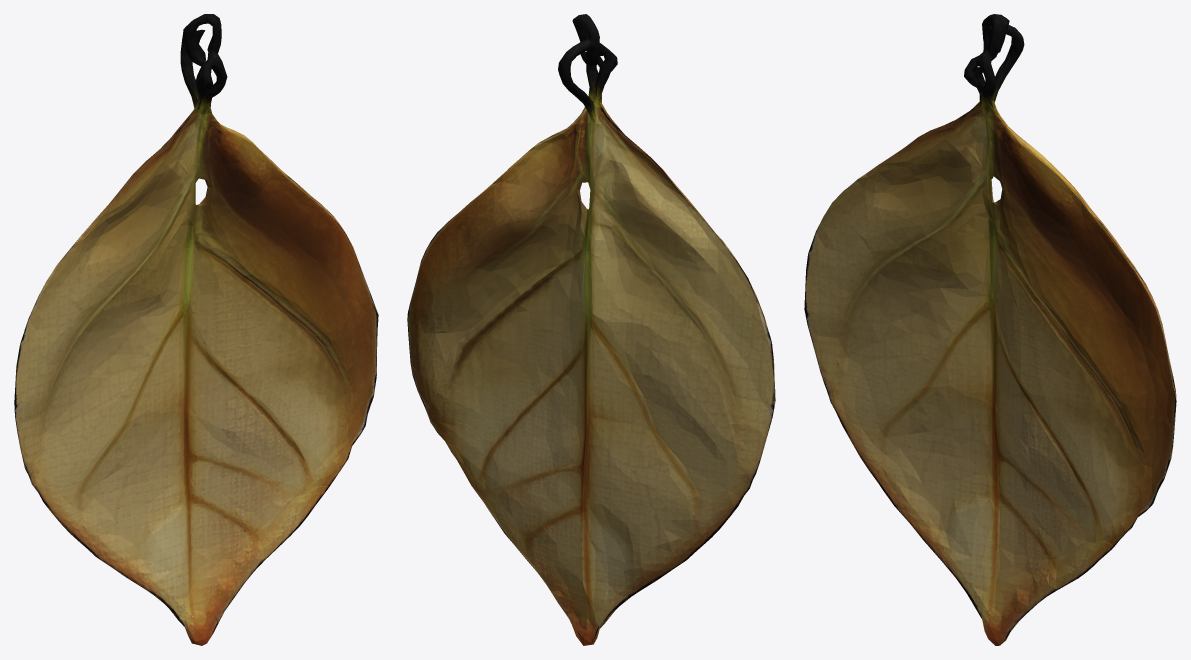
The model's file is leaf-pressed-pendant-vintage.jpeg.glb.
3 renders of one model, left to right at view 1: azimuth 30°, elevation 25°; view 2: azimuth 150°, elevation 25°; view 3: azimuth 330°, elevation 25°, orthographic.
Visible parts, largest first — view 1: world; view 2: world; view 3: world.
Boxes of the visible parts, bbox=[...] form: world: bbox=[14, 14, 378, 645]; world: bbox=[407, 14, 775, 645]; world: bbox=[804, 14, 1176, 645].
Size of the model in its own units: 0.6092 by 1 by 0.1133.
Materials: 1 (1 with a texture image).
